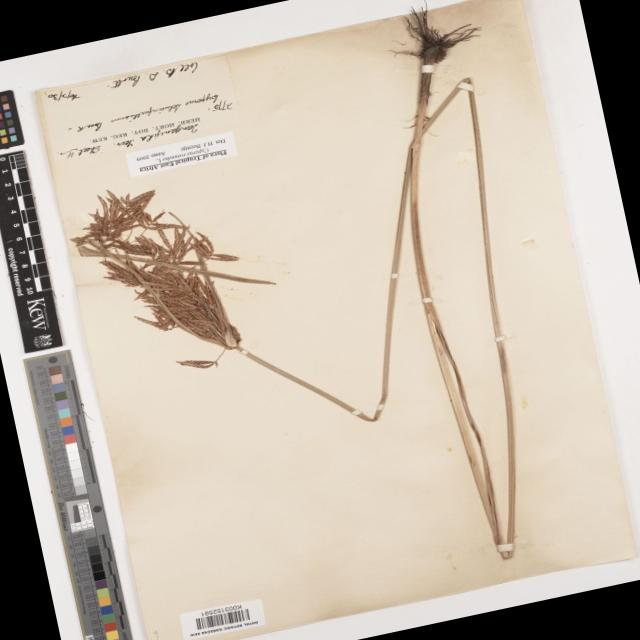cyperus: (57, 158, 293, 395)
